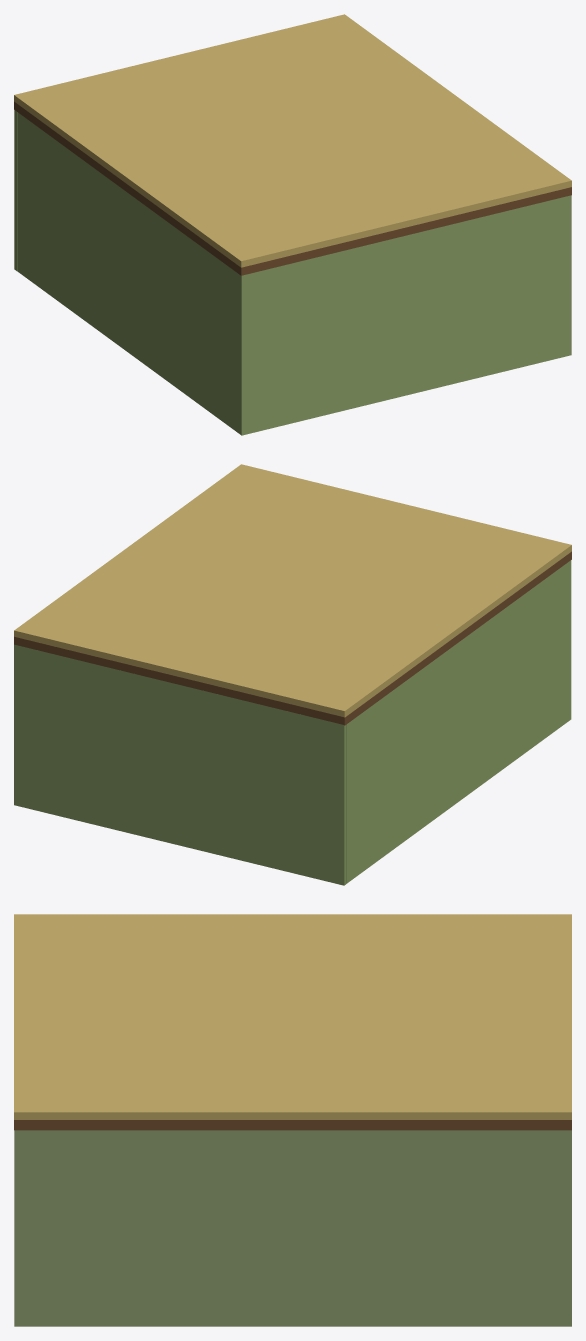
Rendered from Classroom.fbx.
3 renders of one model, top to bottom at view 1: azimuth 30°, elevation 25°; view 2: azimuth 150°, elevation 25°; view 3: azimuth 270°, elevation 25°, orthographic. The views are drawn at different scales.
Visible parts, largest first — view 1: Object_2; view 2: Object_2; view 3: Object_2.
Part boxes in pixels (x1,y1,x2,y2): Object_2: [14, 14, 571, 435]; Object_2: [14, 464, 571, 885]; Object_2: [14, 914, 571, 1326].
Bounding box in the file's own units: 21.2 × 10.69 × 25.22.
1 material, 1 textured.
